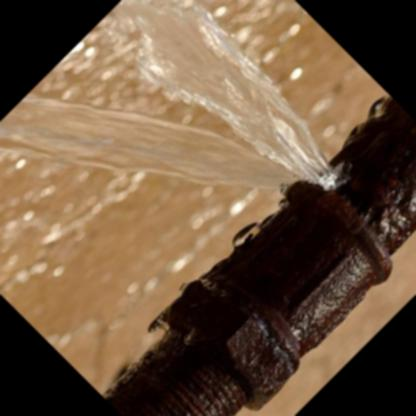burst: (246, 148, 366, 223)
